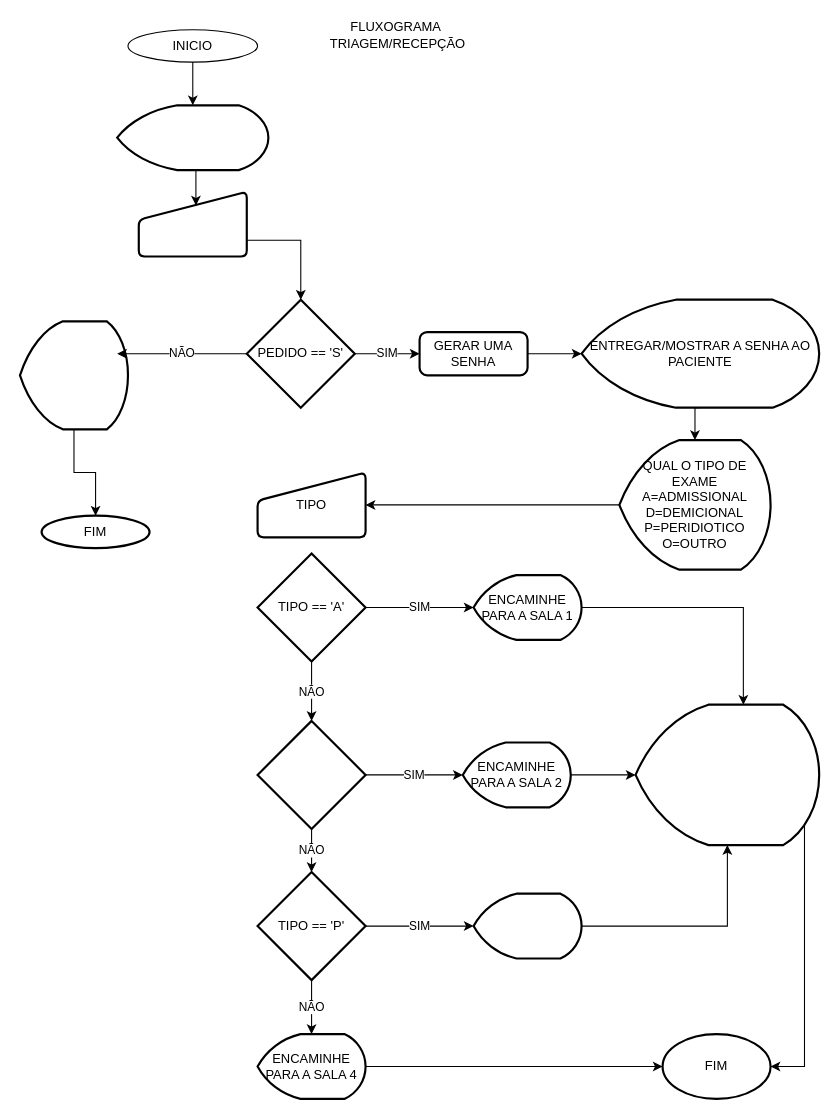
This 838x1118 diagram has some shape labels left out. The box of each missing label's shape, as (x1, y1, x2, y2) in pixels:
ENCAMINHE PARA A SALA 3: (472, 892, 582, 959)
PEDIDO: (137, 190, 247, 257)
POSSUI PEDIDO DE EXAME, S/N?: (116, 104, 269, 171)
TIPO == 'D': (256, 719, 366, 829)
VOLTE PARA A RECEPÇÃO PARA RECEBER O RESULTADO DOS EXAMES: (634, 703, 820, 846)
VOLTE PARA A SUA EMPRESA E SOLICITE: (18, 320, 129, 430)
